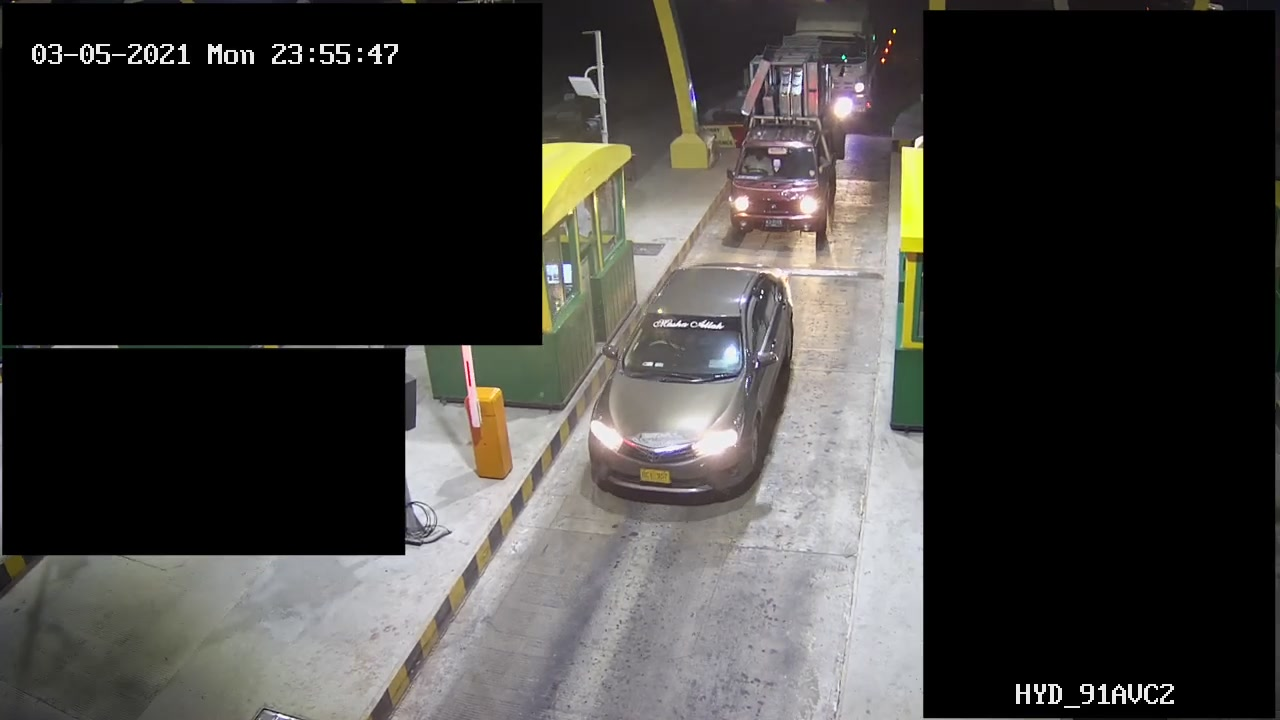F1: (578, 255, 803, 517)
F2: (719, 29, 847, 242)
